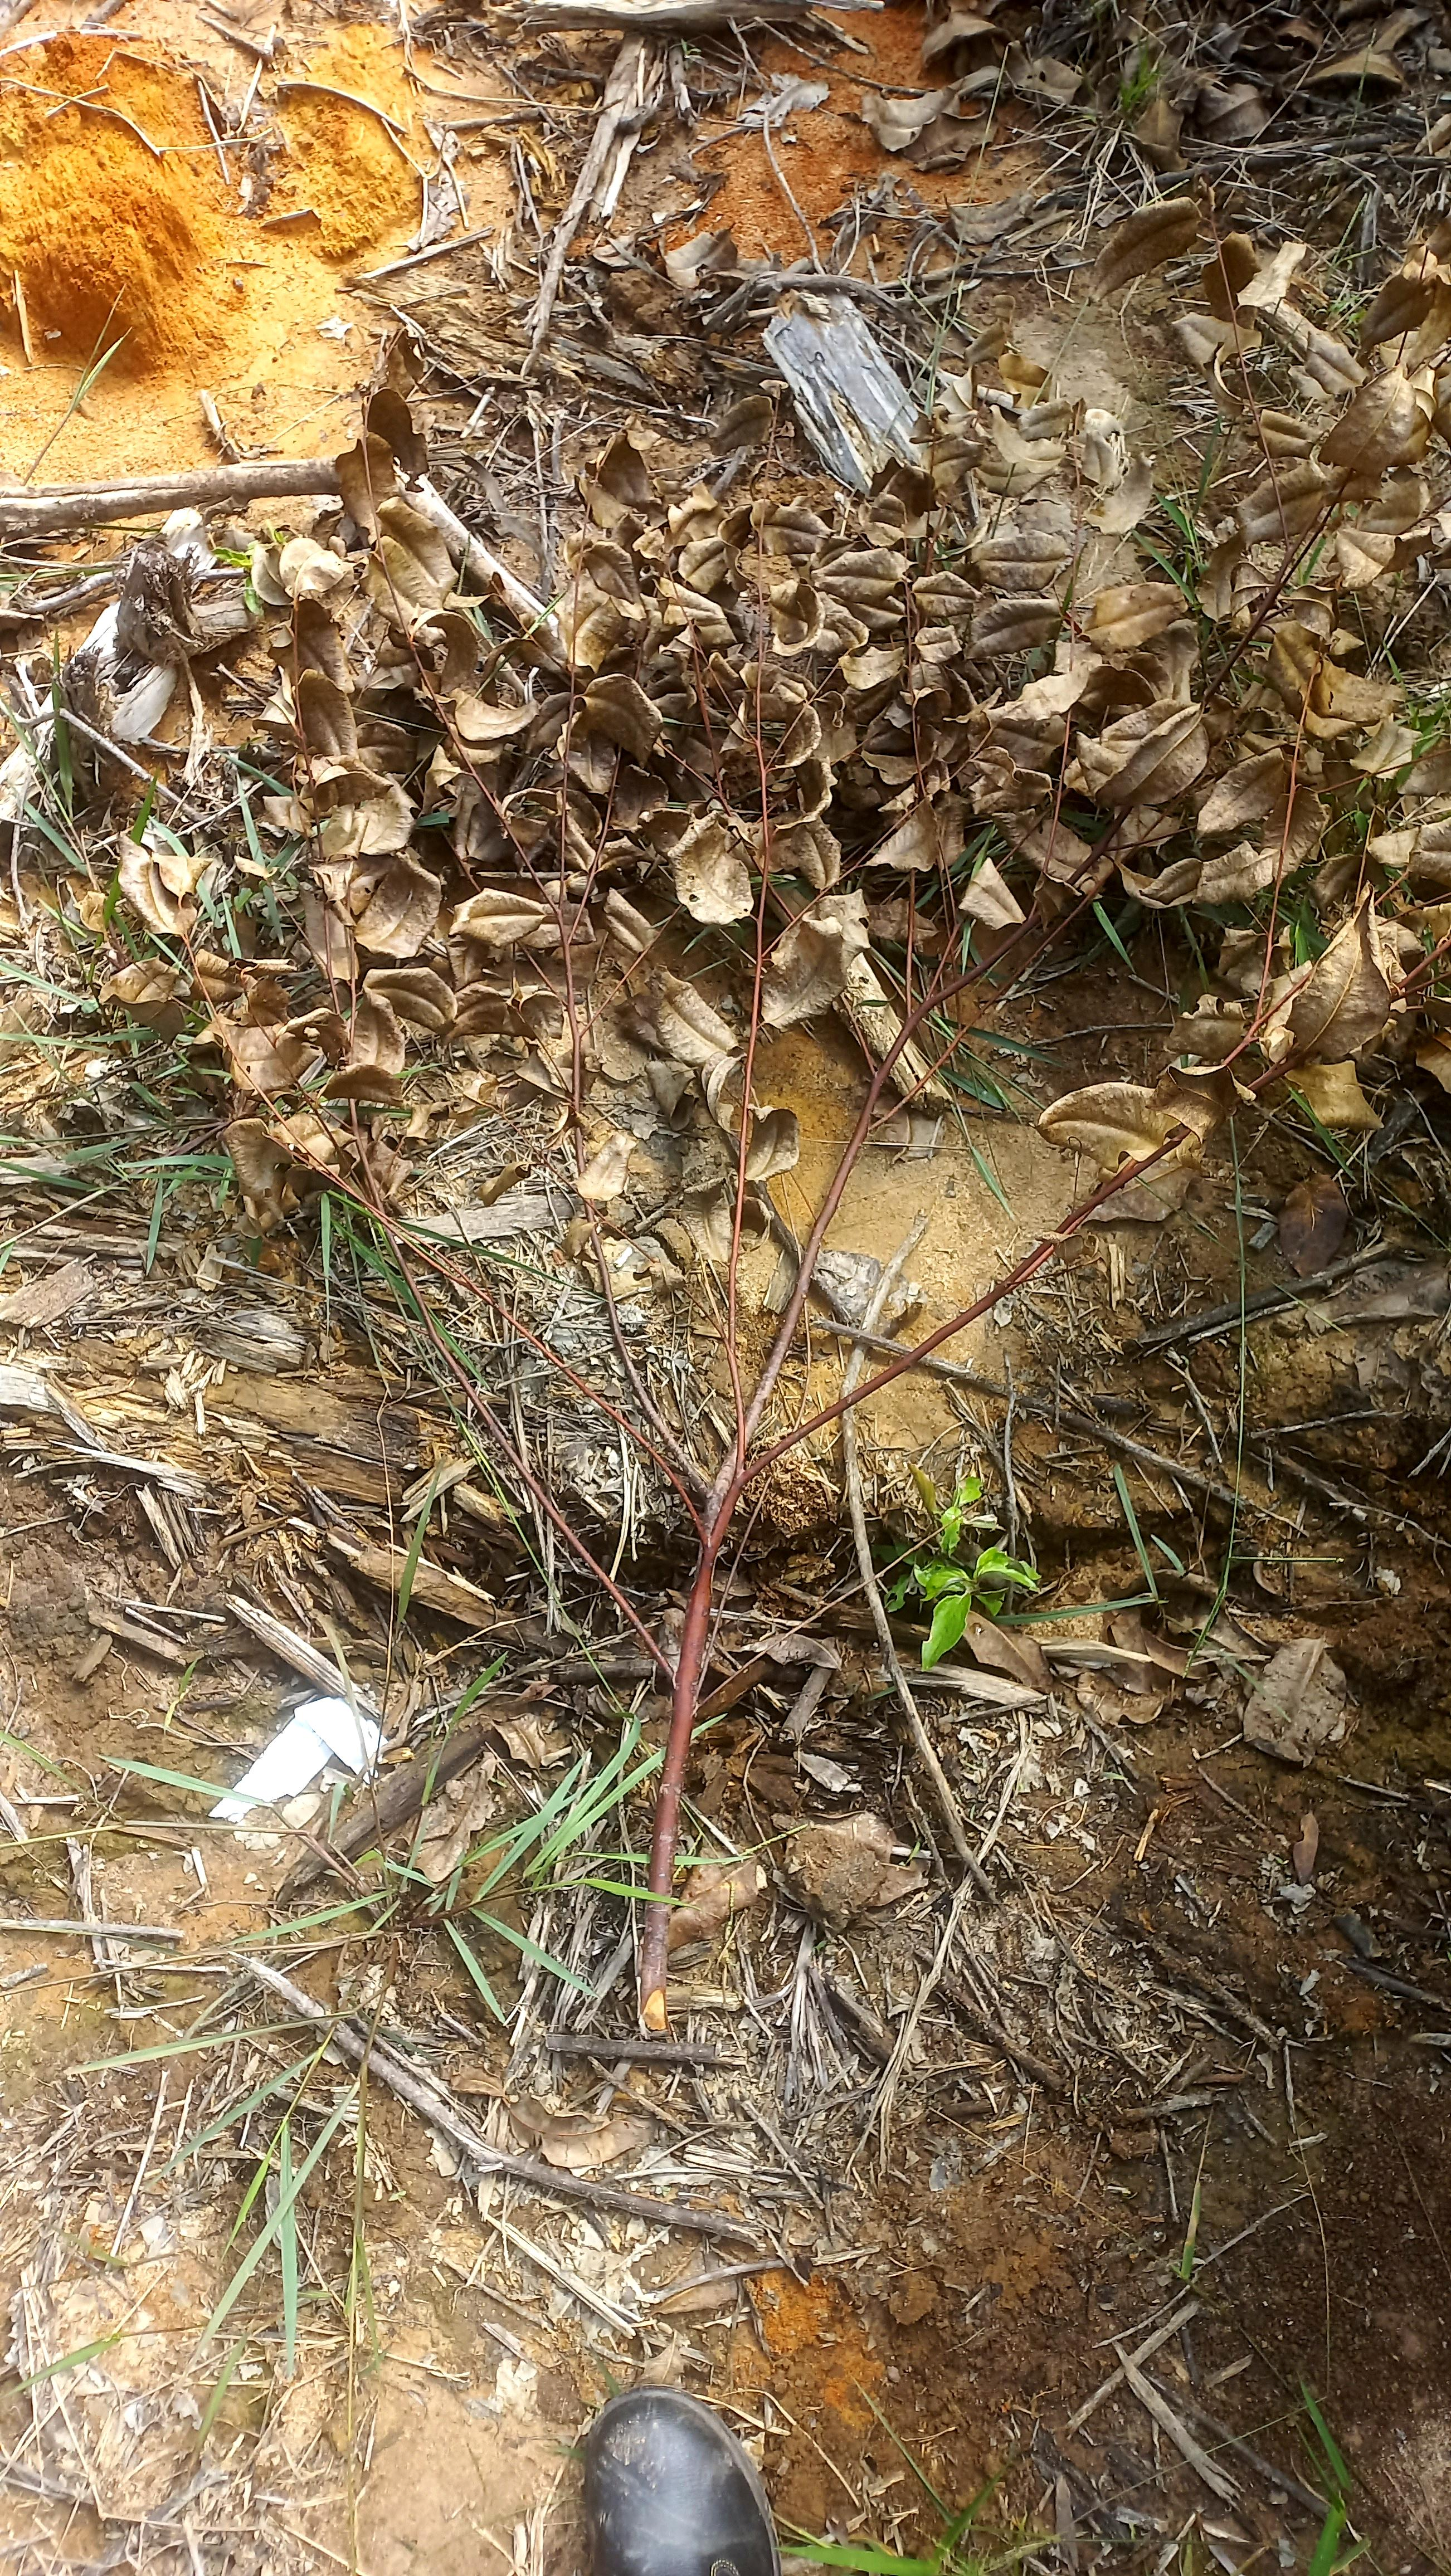Wither Tree Parts: (18, 347, 1451, 1987)
